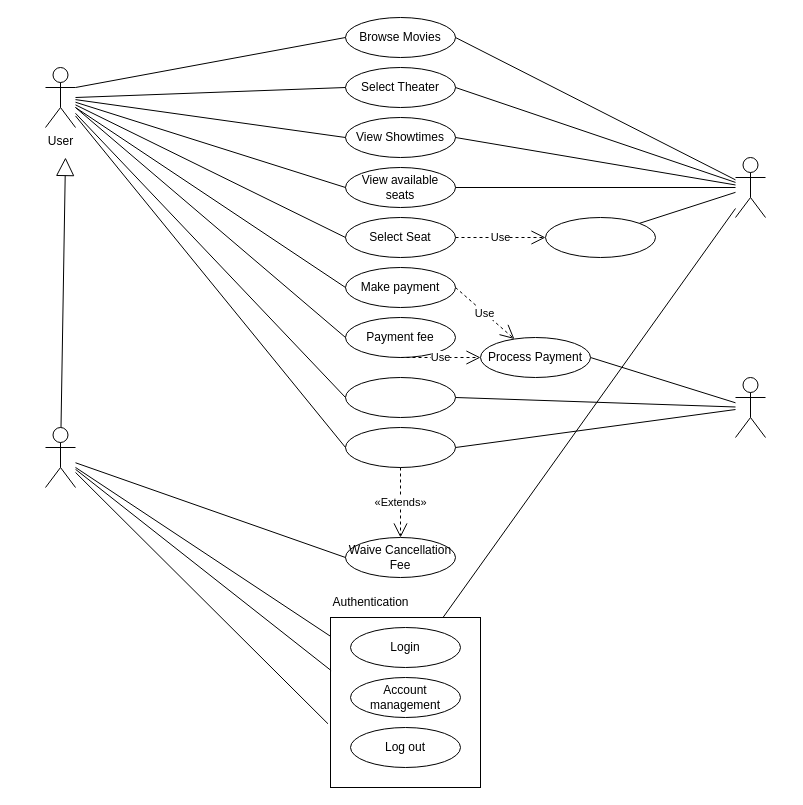
This 803x805 diagram has some shape labels left out. The shapes that lost their labels are listed below. From the top down, each one's centre as x and y in pixels, then its label:
At point (750, 187): "Database".
At point (600, 237): "Update Seating".
At point (400, 397): "Receive Ticket and receipt".
At point (750, 407): "Financial Inst".
At point (60, 457): "Registered User".
At point (400, 447): "Cancel Ticket".
